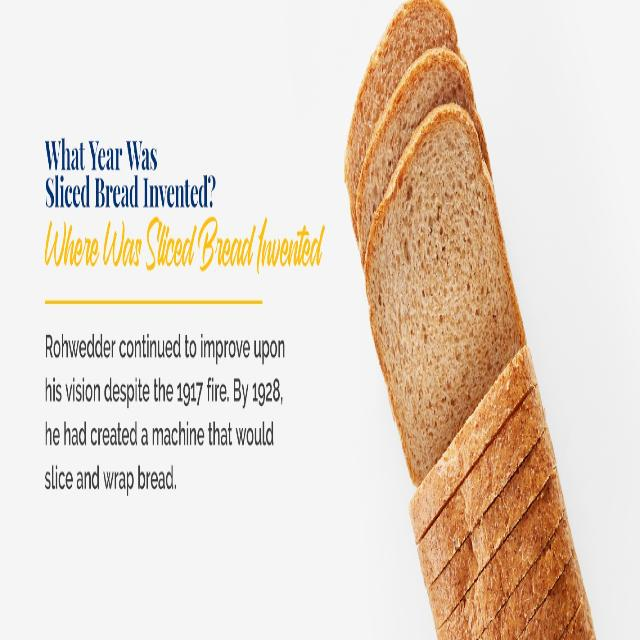Bread: (364, 105, 525, 484), (344, 0, 458, 240), (356, 46, 480, 263)
